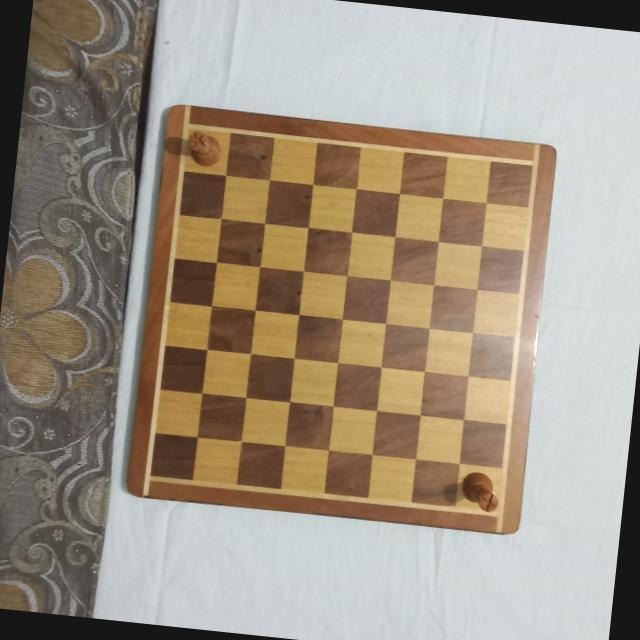white-rook: (456, 468, 500, 512), (184, 127, 224, 169)
